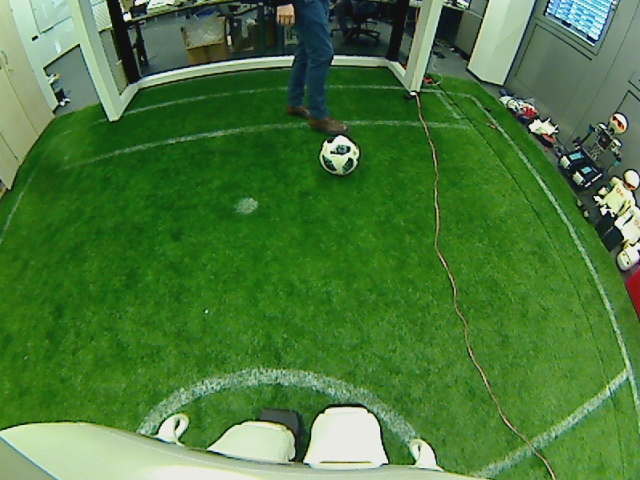ball: (318, 132, 360, 175)
